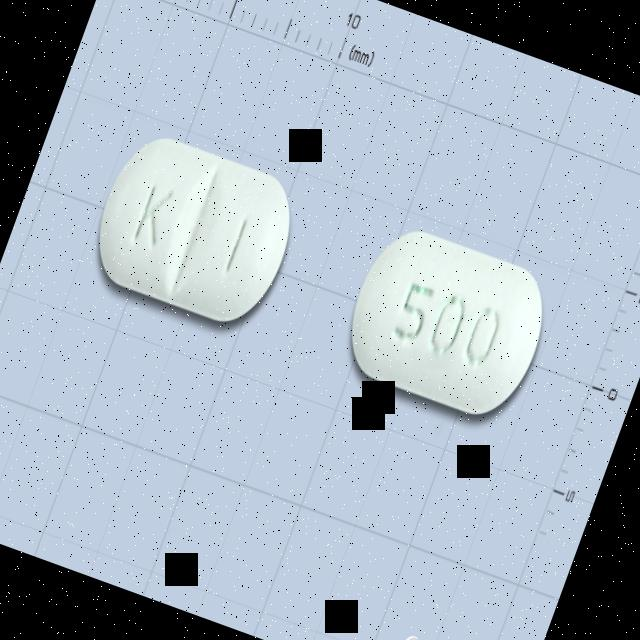Amocla: (75, 124, 314, 342), (334, 216, 563, 428)
